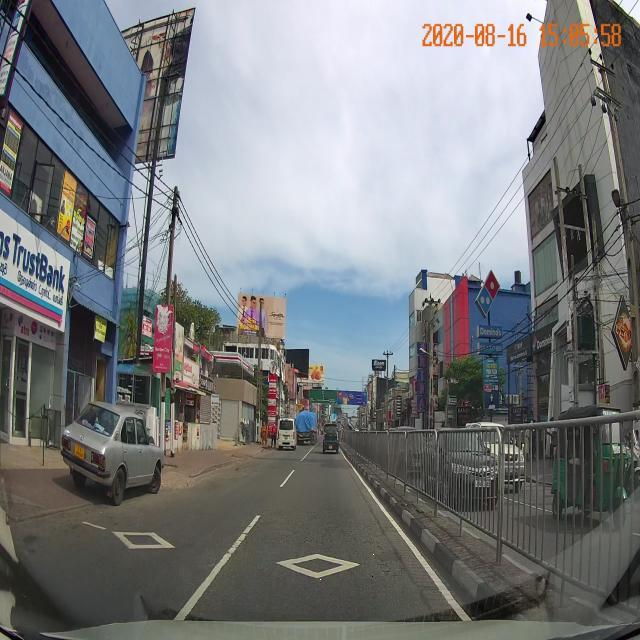diamond: (210, 552, 447, 587)
